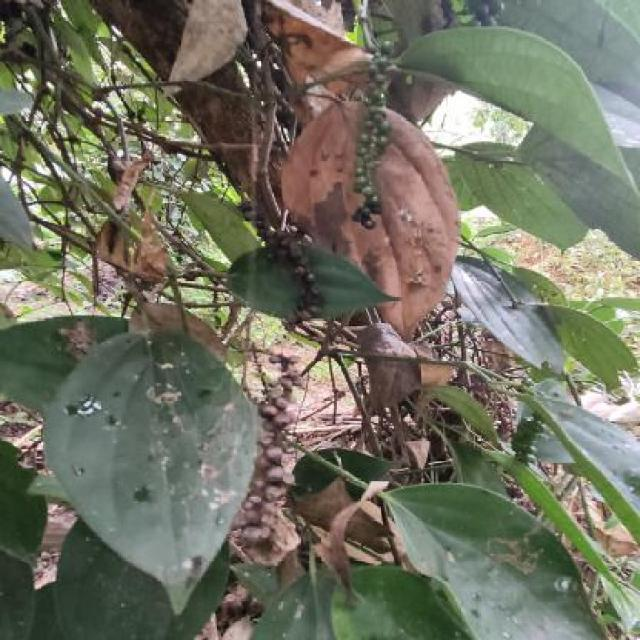UNRIPE: (355, 41, 393, 204), (509, 415, 543, 462), (464, 2, 502, 24)
